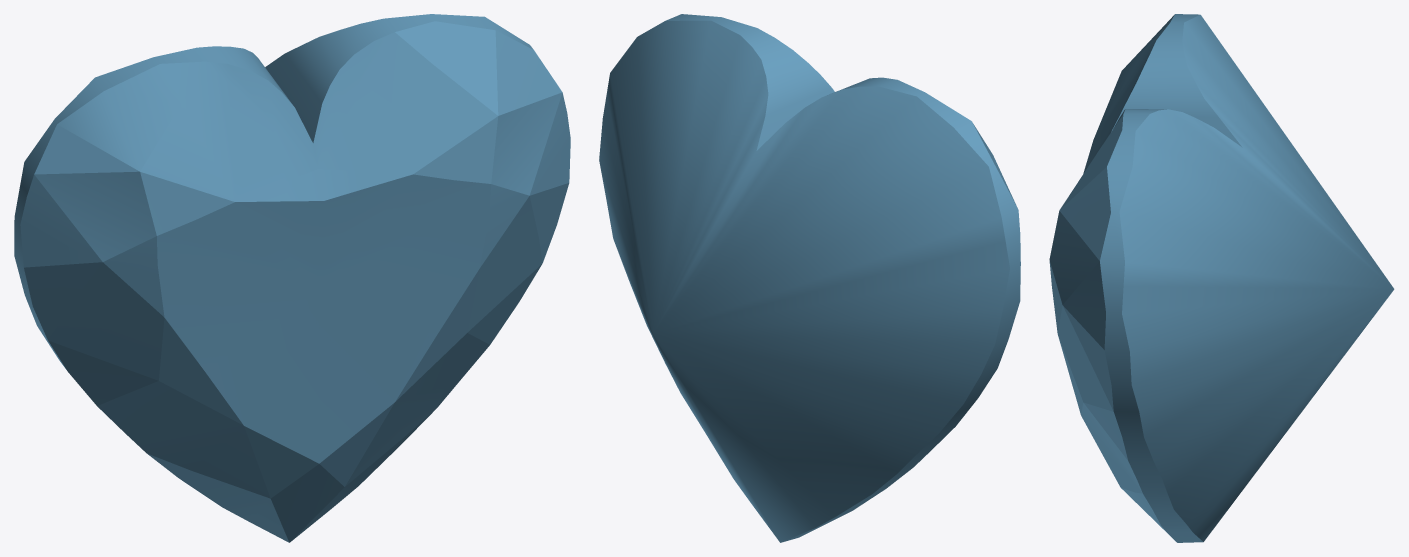
File: TL1_8shapes_heart_Classic_Stone.001 3.glb
3 views of the same model, side by side, from view 1: azimuth 30°, elevation 25°; view 2: azimuth 150°, elevation 25°; view 3: azimuth 270°, elevation 25° (orthographic). The views are drawn at different scales.
Parts seen in each view (by area): view 1: TL1_8shapes_heart_Classic_Stone.001; view 2: TL1_8shapes_heart_Classic_Stone.001; view 3: TL1_8shapes_heart_Classic_Stone.001.
Boxes of the visible parts, x1,y1,x2,y2 form: TL1_8shapes_heart_Classic_Stone.001: [14, 14, 570, 542]; TL1_8shapes_heart_Classic_Stone.001: [599, 14, 1020, 542]; TL1_8shapes_heart_Classic_Stone.001: [1049, 14, 1394, 542].
Size of the model in its own units: 0.5694 by 0.5629 by 0.3793.
